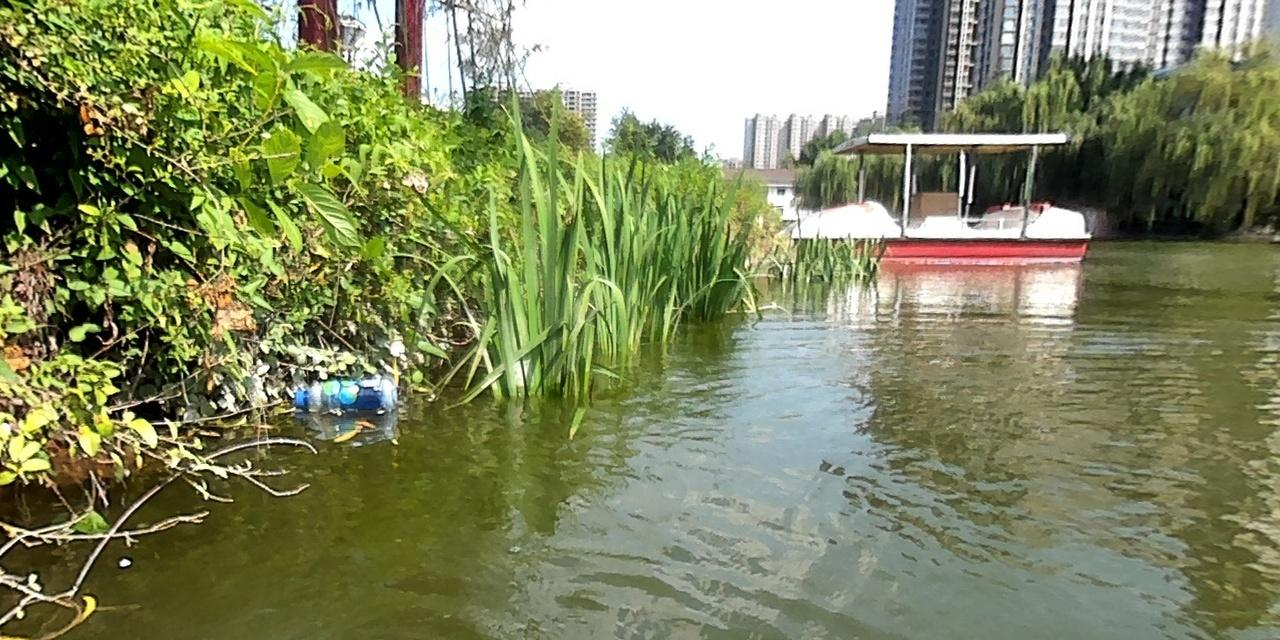bottle: (291, 374, 395, 417)
